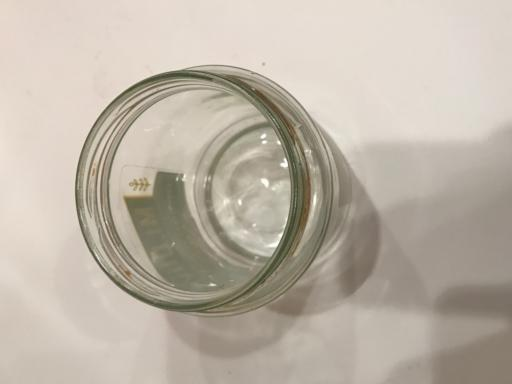botolkaca: (75, 64, 333, 312)
